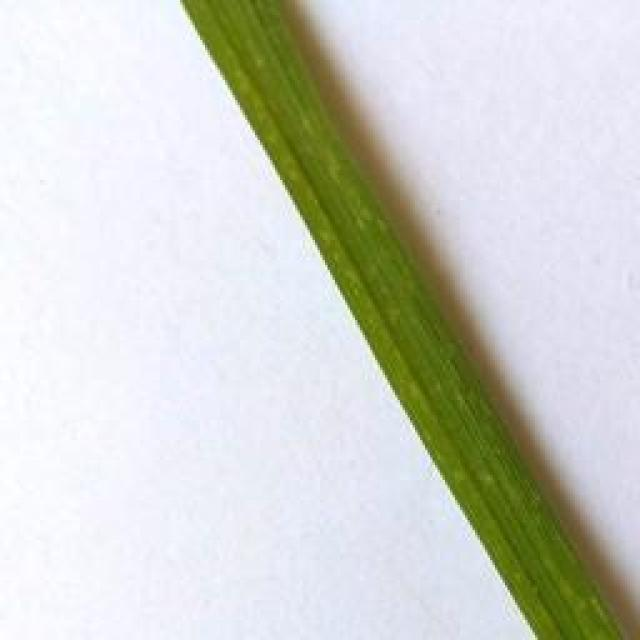Healthy-Plant: (182, 0, 626, 640)
